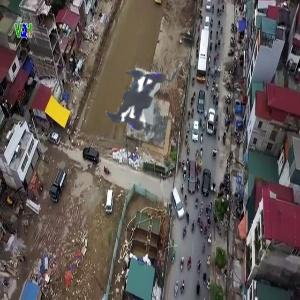drone: (61, 19, 228, 186)
